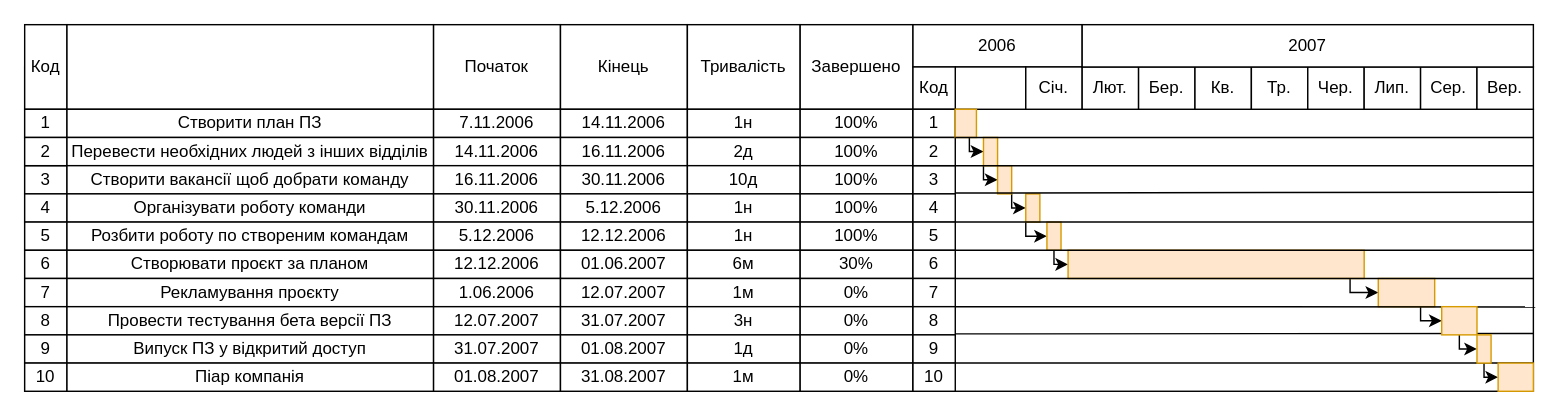
Some shapes in this 1562 by 416 pixel diagram are drawn without their labels. Here are the shapes that lost their labels. From the top down, the centre of each, then its label:
At point 250,66: "Задача".
At point 990,87: "Лис.".
